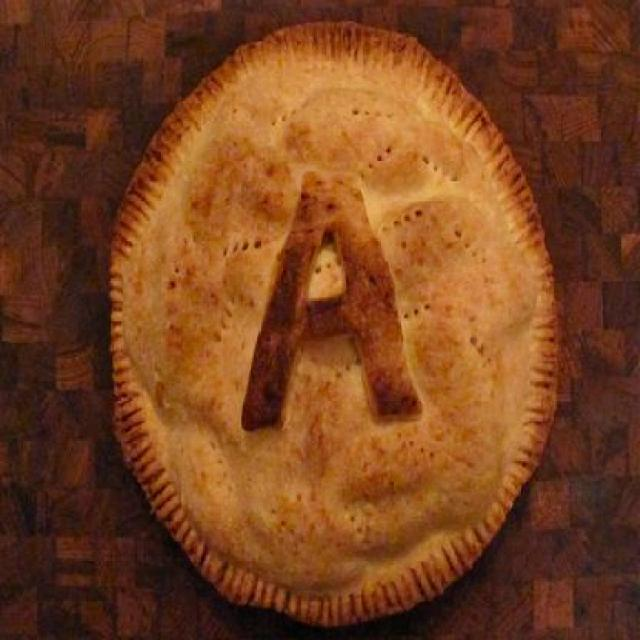Apple: (113, 22, 562, 613)
